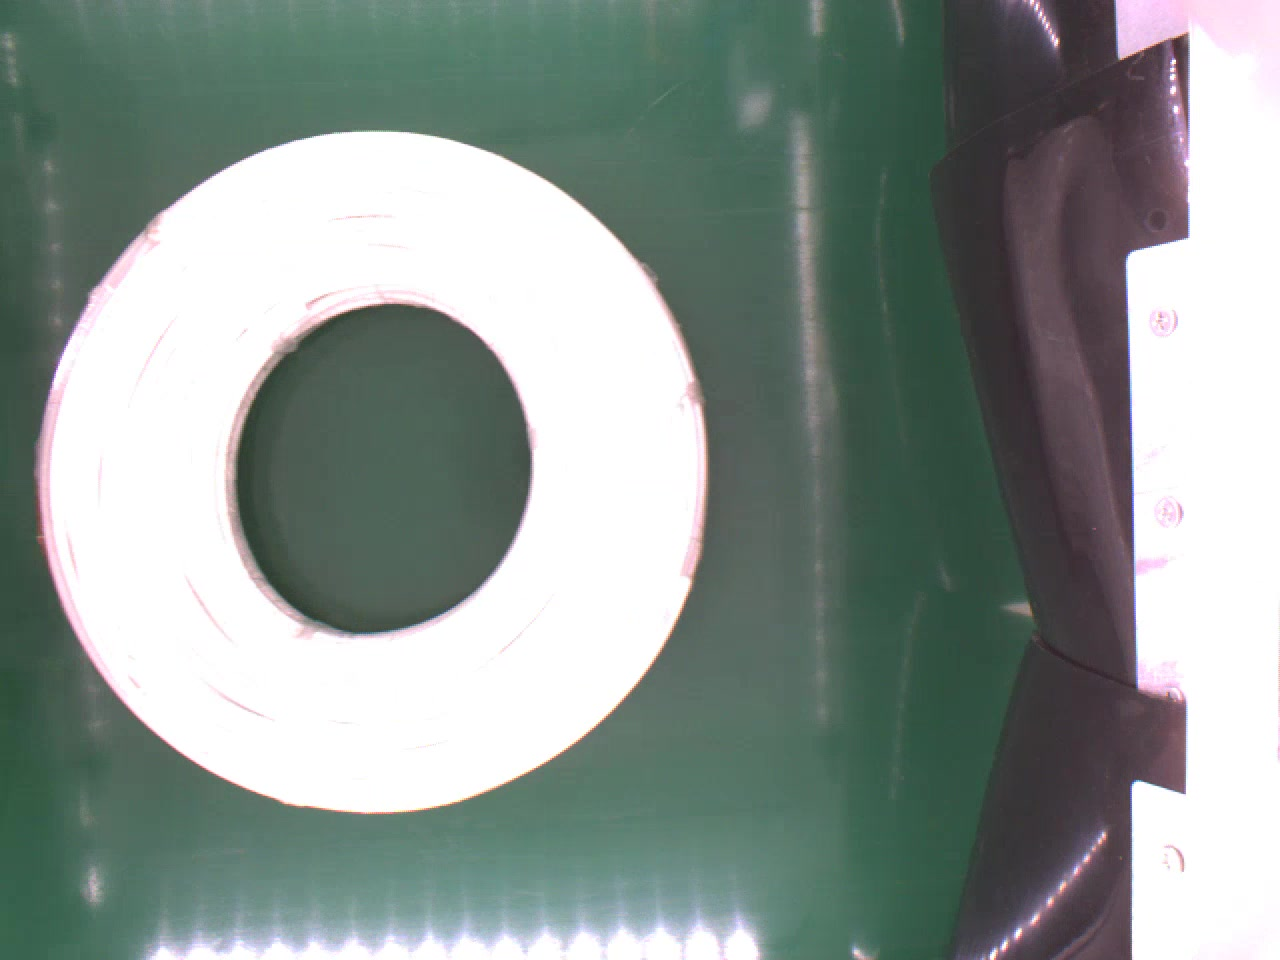white: (28, 125, 717, 814)
